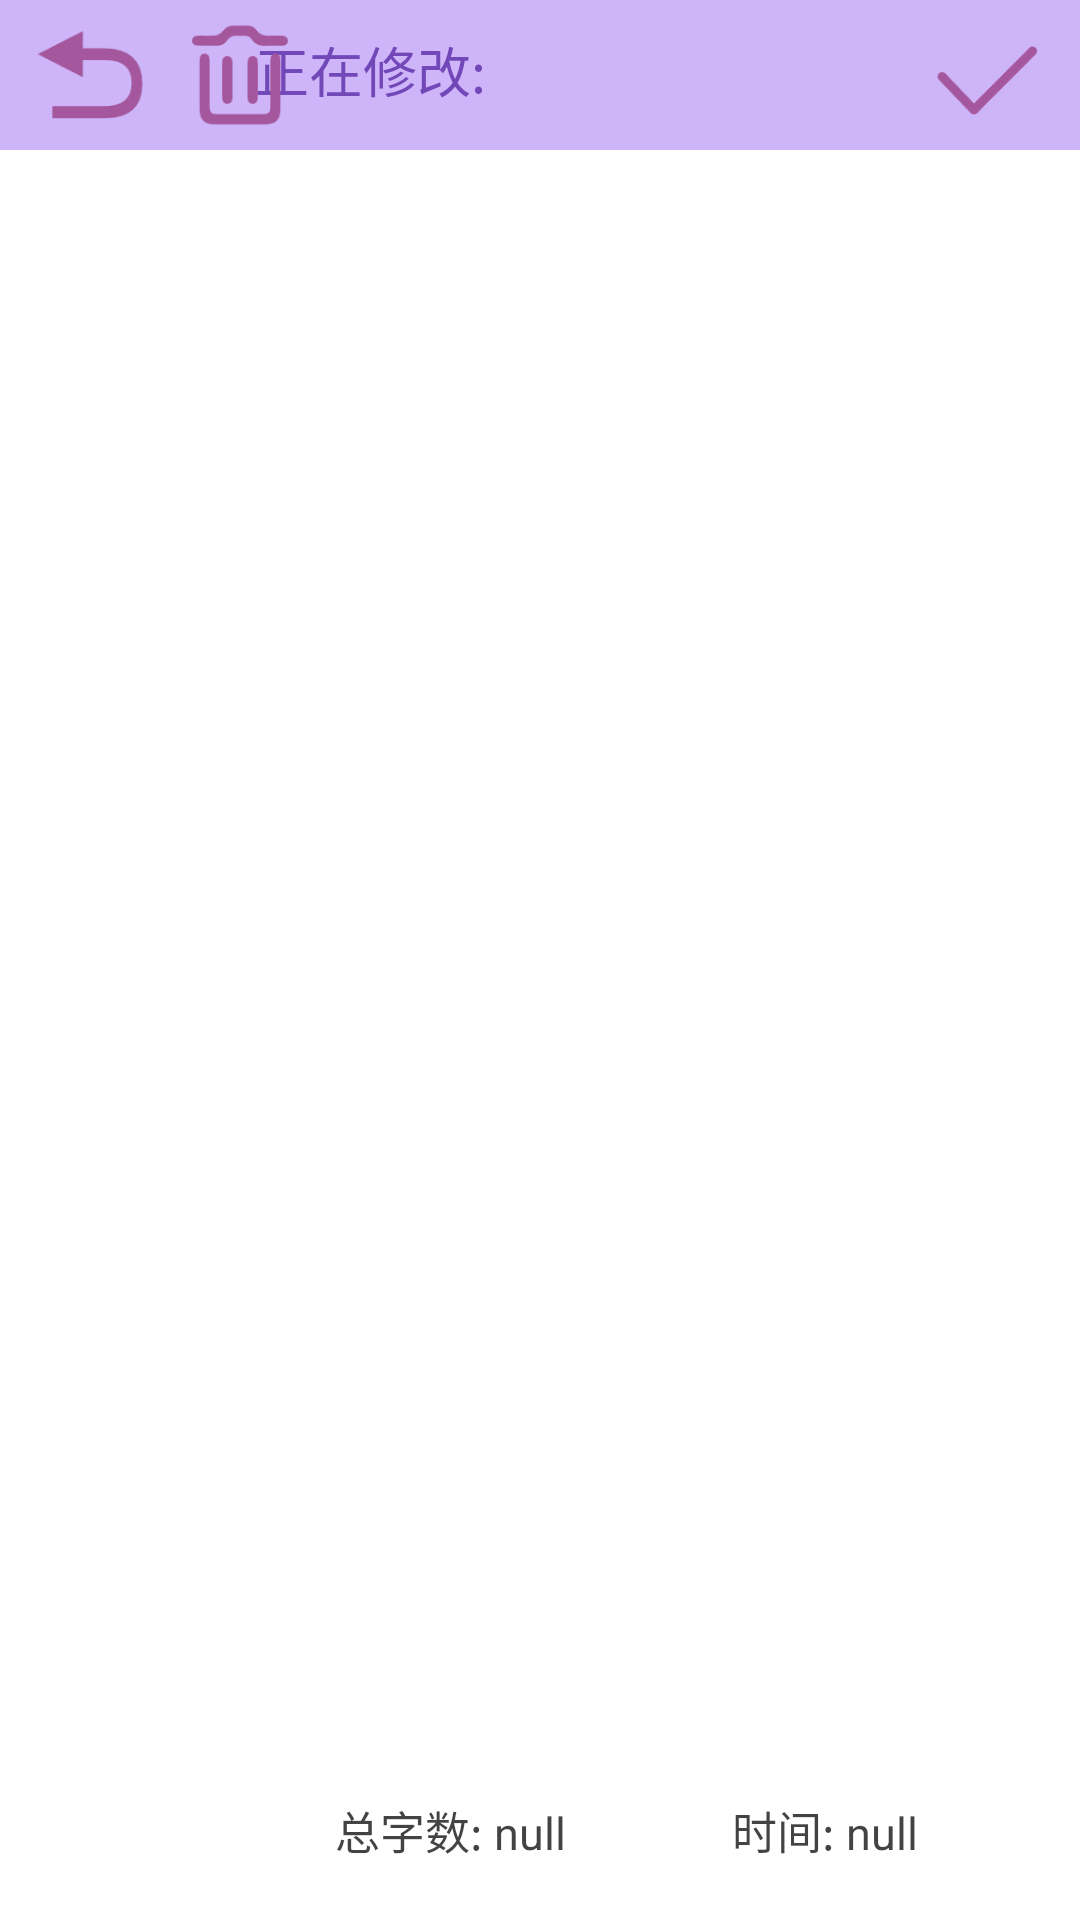

Locate icon controls on the screen. Image size 1080w x 1920h, boxes as (left=x1, top=y1, right=x2, bottom=y2).
back: (left=38, top=31, right=143, bottom=118)
delete: (left=192, top=25, right=300, bottom=125)
